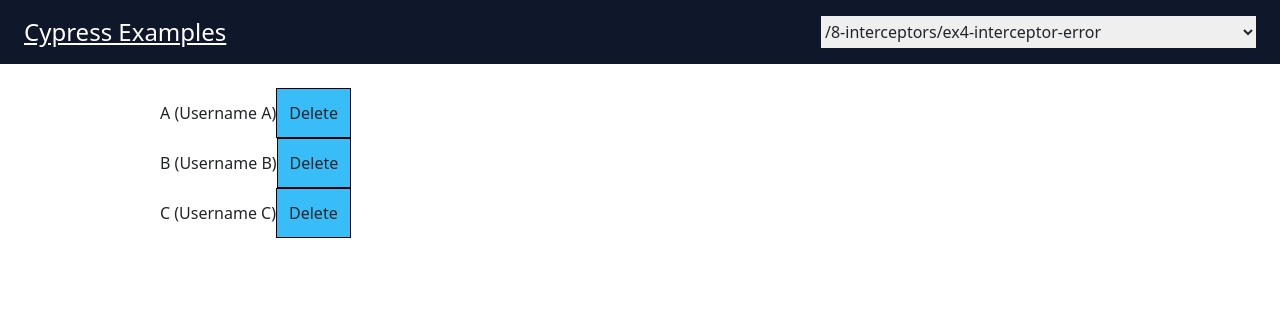
Test case: Error Handling › should not delete an item if API DELETE fails
Click the button "Delete" next to "Username A".
click(314, 113)  # box [276, 88, 351, 138]
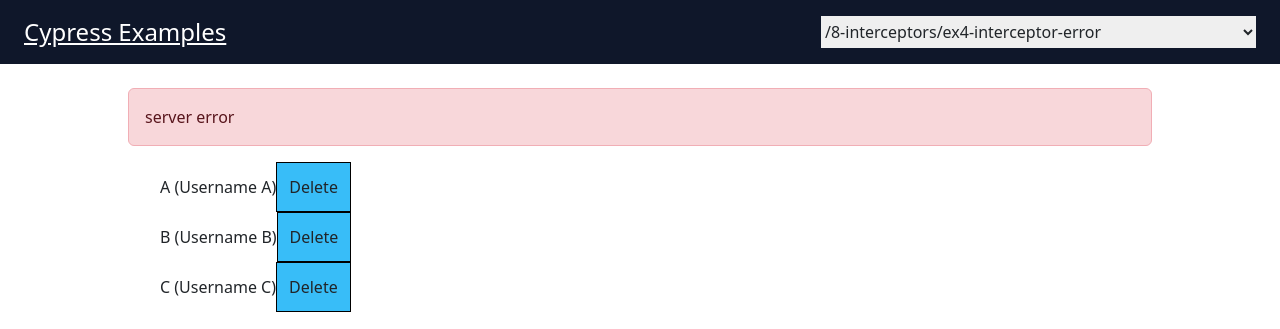
Check: the number of list items is 3, box [160, 162, 351, 212]; [160, 212, 351, 262]; [160, 262, 351, 312]
Check: the text "server error" is shown, box [128, 88, 1152, 146]
